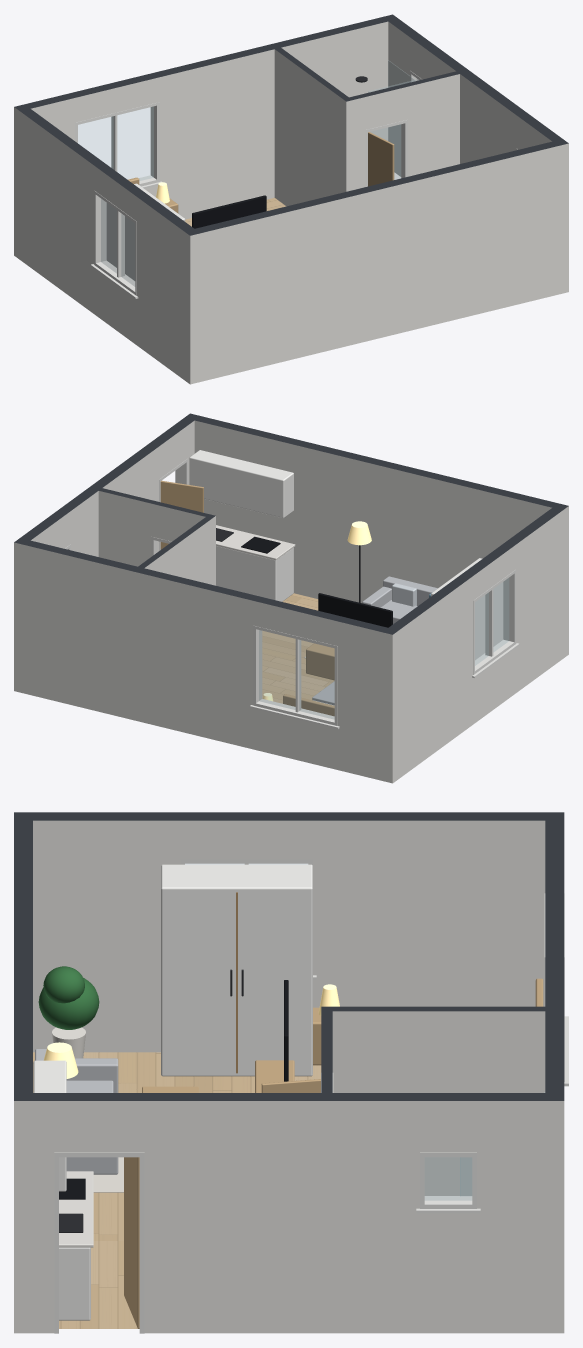
File: studio-apartment.glb
3 renders of one model, top to bottom at view 1: azimuth 30°, elevation 25°; view 2: azimuth 150°, elevation 25°; view 3: azimuth 270°, elevation 25°, orthographic. The views are drawn at different scales.
Visible parts, largest first — view 1: wall_s2, wall_s0, wall_s3, wall_s4, wall_s1, wall_s5, window_o1, window_o2, door_o5, Wardrobe, TV console, Shower 90; view 2: wall_s0, wall_s2, wall_s3, Kitchenette 1.8 m, window_o1, wall_s1, wall_s5, window_o2, Living / sleeping, wall_s4, TV console, Loveseat (+4 smaller); view 3: wall_s1, wall_s3, Wardrobe, wall_s4, wall_s0, Living / sleeping, Kitchenette 1.8 m, wall_s2, door_o4, Floor plant, window_o3, Loveseat (+8 smaller).
Boxes of the visible parts, bbox=[...] form: wall_s2: bbox=[184, 139, 568, 384]; wall_s0: bbox=[14, 14, 397, 258]; wall_s3: bbox=[14, 104, 200, 383]; wall_s4: bbox=[272, 44, 349, 206]; wall_s1: bbox=[383, 15, 568, 236]; wall_s5: bbox=[342, 70, 467, 192]; window_o1: bbox=[75, 102, 162, 188]; window_o2: bbox=[90, 191, 138, 298]; door_o5: bbox=[365, 120, 407, 186]; Wardrobe: bbox=[106, 183, 185, 280]; TV console: bbox=[192, 195, 266, 228]; Shower 90: bbox=[355, 60, 415, 179]; wall_s0: bbox=[14, 538, 398, 783]; wall_s2: bbox=[185, 414, 568, 658]; wall_s3: bbox=[382, 503, 568, 783]; Kitchenette 1.8 m: bbox=[189, 450, 295, 601]; window_o1: bbox=[249, 625, 339, 728]; wall_s1: bbox=[14, 413, 200, 636]; wall_s5: bbox=[94, 486, 215, 585]; window_o2: bbox=[472, 570, 519, 677]; Living / sleeping: bbox=[262, 593, 334, 703]; wall_s4: bbox=[134, 515, 215, 584]; TV console: bbox=[306, 593, 392, 680]; Loveseat: bbox=[362, 576, 437, 623]; wall_s1: bbox=[14, 1093, 563, 1333]; wall_s3: bbox=[14, 812, 564, 1052]; Wardrobe: bbox=[161, 864, 312, 1076]; wall_s4: bbox=[321, 1006, 560, 1195]; wall_s0: bbox=[545, 812, 564, 1333]; Living / sleeping: bbox=[33, 1052, 321, 1328]; Kitchenette 1.8 m: bbox=[33, 1060, 93, 1320]; wall_s2: bbox=[14, 812, 32, 1333]; door_o4: bbox=[54, 1152, 144, 1333]; Floor plant: bbox=[38, 966, 99, 1058]; window_o3: bbox=[416, 1152, 480, 1213]; Loveseat: bbox=[35, 1049, 118, 1174].
Bounding box in the file's own units: 7.3 × 2.7 × 5.85.
22 materials, 2 textured.
